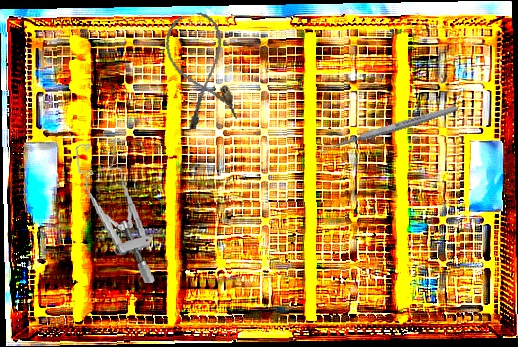Cannula: (160, 9, 240, 131)
Speculum: (74, 136, 157, 290)
Surgical Spoon: (318, 103, 459, 155)
